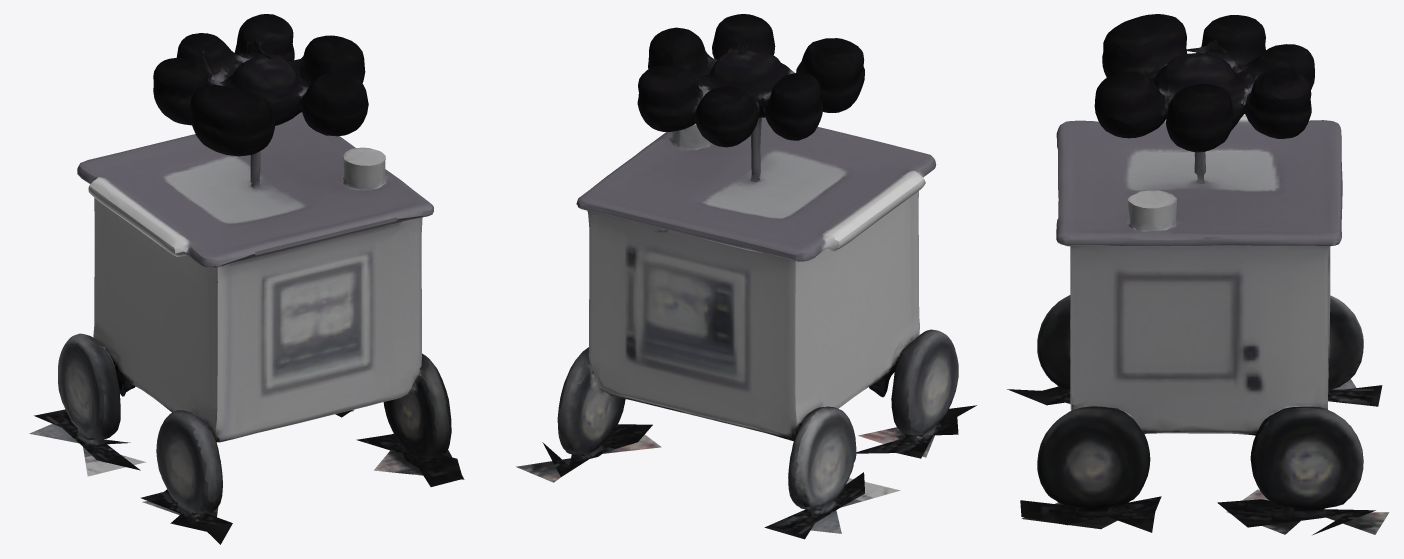
The model's file is food-cart.glb.
3 renders of one model, left to right at view 1: azimuth 30°, elevation 25°; view 2: azimuth 150°, elevation 25°; view 3: azimuth 270°, elevation 25°, orthographic. The views are drawn at different scales.
Parts seen in each view (by area): view 1: geometry_0; view 2: geometry_0; view 3: geometry_0.
Boxes of the visible parts, left/top/right/bottom form: geometry_0: left=29, top=14, right=464, bottom=544; geometry_0: left=516, top=14, right=976, bottom=539; geometry_0: left=1007, top=14, right=1389, bottom=535.
Bounding box in the file's own units: 0.2882 × 0.3186 × 0.2631.
Materials: 1 (1 with a texture image).
